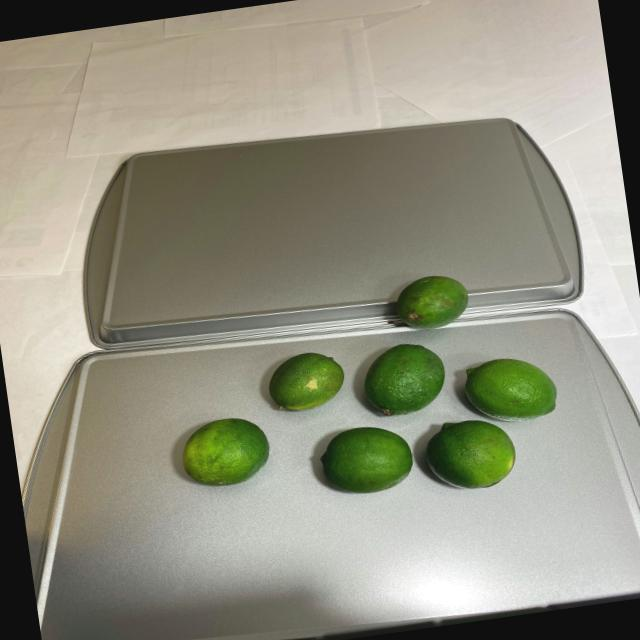lemon: (160, 261, 570, 528)
